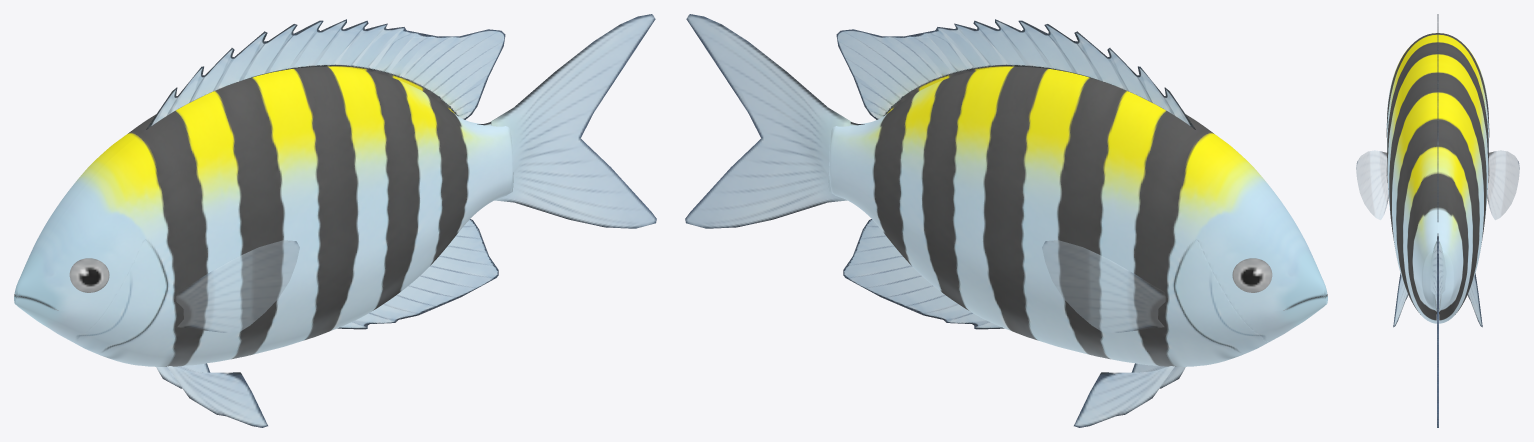
Rendered from oyabiccha-normal-v5.glb.
3 views of the same model, side by side, from view 1: azimuth 30°, elevation 25°; view 2: azimuth 150°, elevation 25°; view 3: azimuth 270°, elevation 25° (orthographic). The views are drawn at different scales.
Parts seen in each view (by area): view 1: body, caudal, dorsal, pectoral_1, anal, operculum_1, pelvic_1, eye_1; view 2: body, caudal, dorsal, pectoral_-1, anal, operculum_-1, pelvic_-1, eye_-1; view 3: body, pectoral_-1, pectoral_1, caudal, dorsal, pelvic_-1, pelvic_1.
Boxes of the visible parts, box(x1,y1,x2,y2) form: body: box(14, 67, 513, 366); caudal: box(490, 14, 656, 228); dorsal: box(146, 19, 505, 129); pectoral_1: box(176, 240, 299, 332); anal: box(337, 219, 498, 329); operculum_1: box(71, 240, 167, 352); pelvic_1: box(167, 366, 267, 427); eye_1: box(69, 258, 109, 292); body: box(828, 67, 1327, 366); caudal: box(685, 14, 851, 228); dorsal: box(836, 19, 1195, 129); pectoral_-1: box(1042, 240, 1165, 332); anal: box(843, 219, 1004, 329); operculum_-1: box(1174, 240, 1270, 352); pelvic_-1: box(1074, 366, 1174, 427); eye_-1: box(1232, 258, 1272, 292); body: box(1386, 33, 1489, 323); pectoral_-1: box(1487, 150, 1519, 219); pectoral_1: box(1356, 150, 1388, 219); caudal: box(1429, 236, 1446, 427); dorsal: box(1437, 14, 1438, 235); pelvic_-1: box(1467, 273, 1482, 327); pelvic_1: box(1393, 273, 1408, 327).
Size of the model in its own units: 0.18 by 0.0996 by 0.047.
5 materials, 5 textured.
